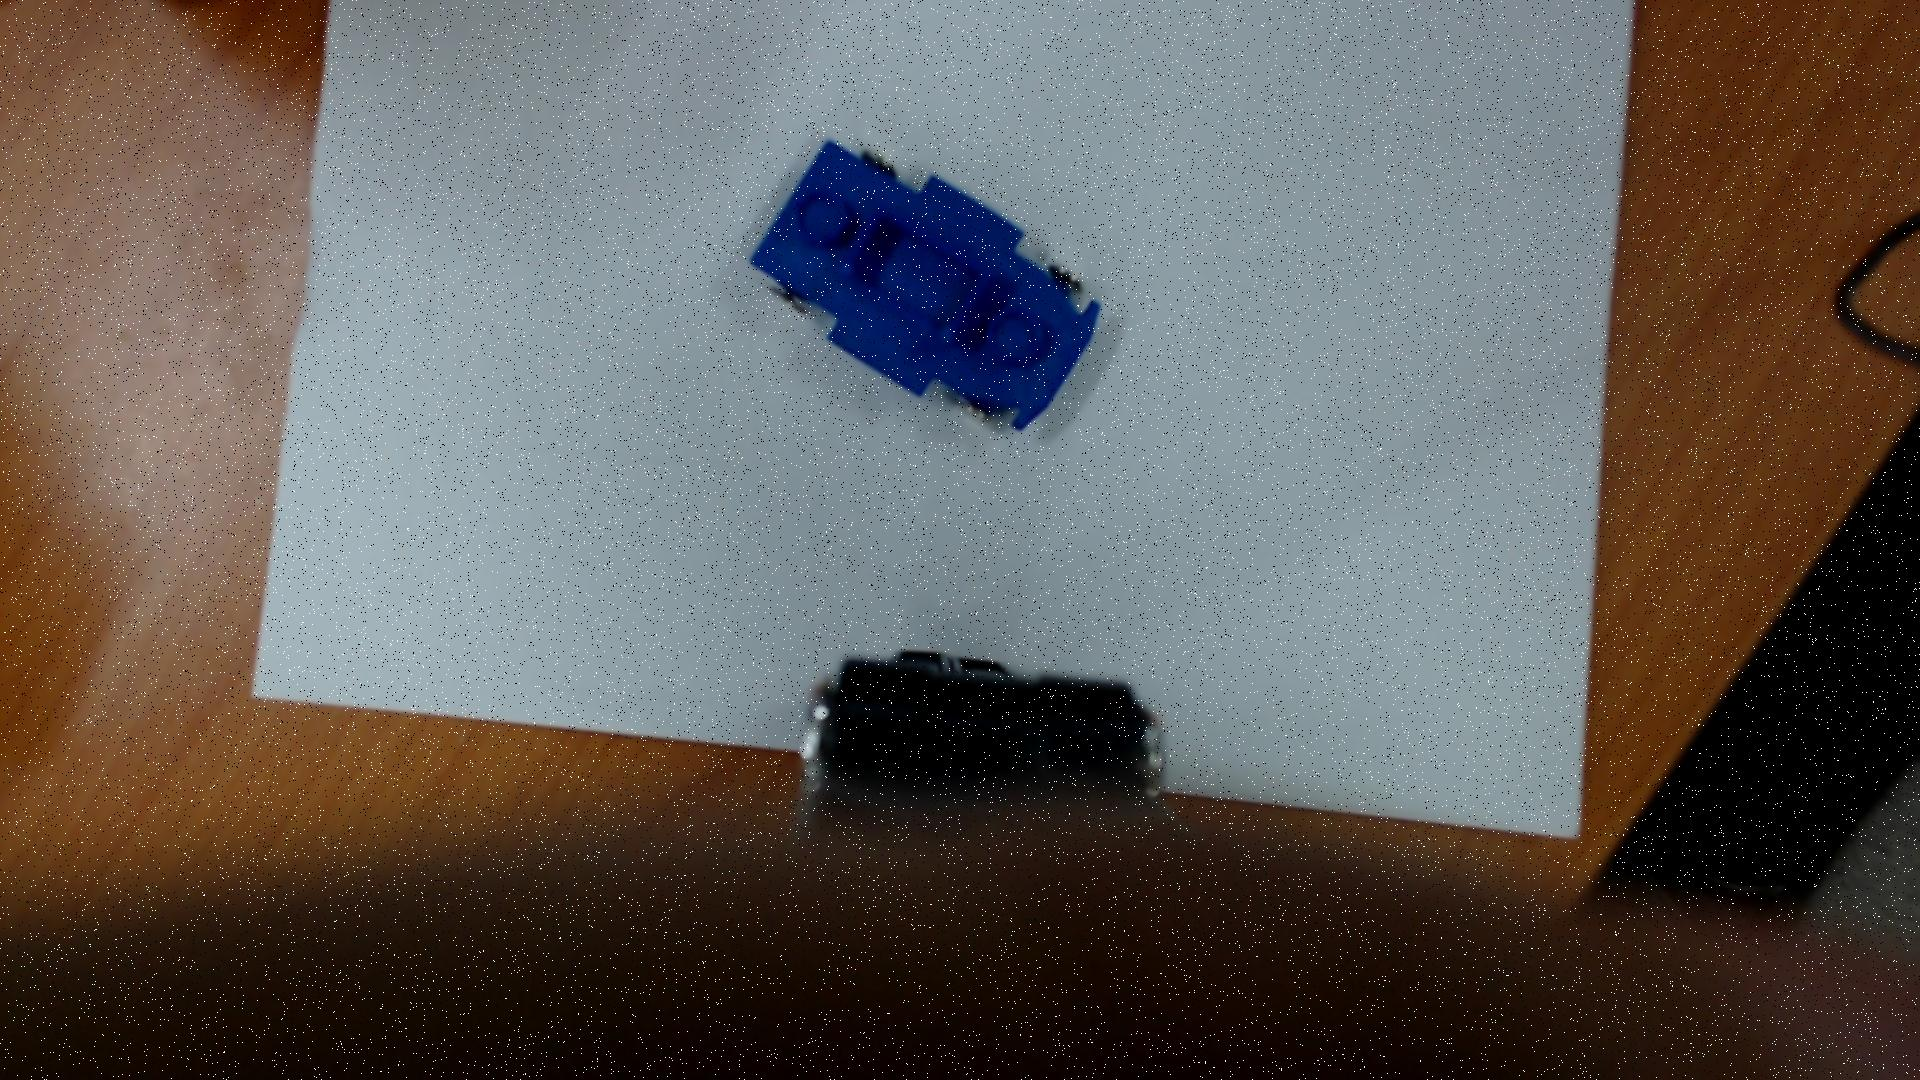lower_ng: (831, 196, 1009, 359)
